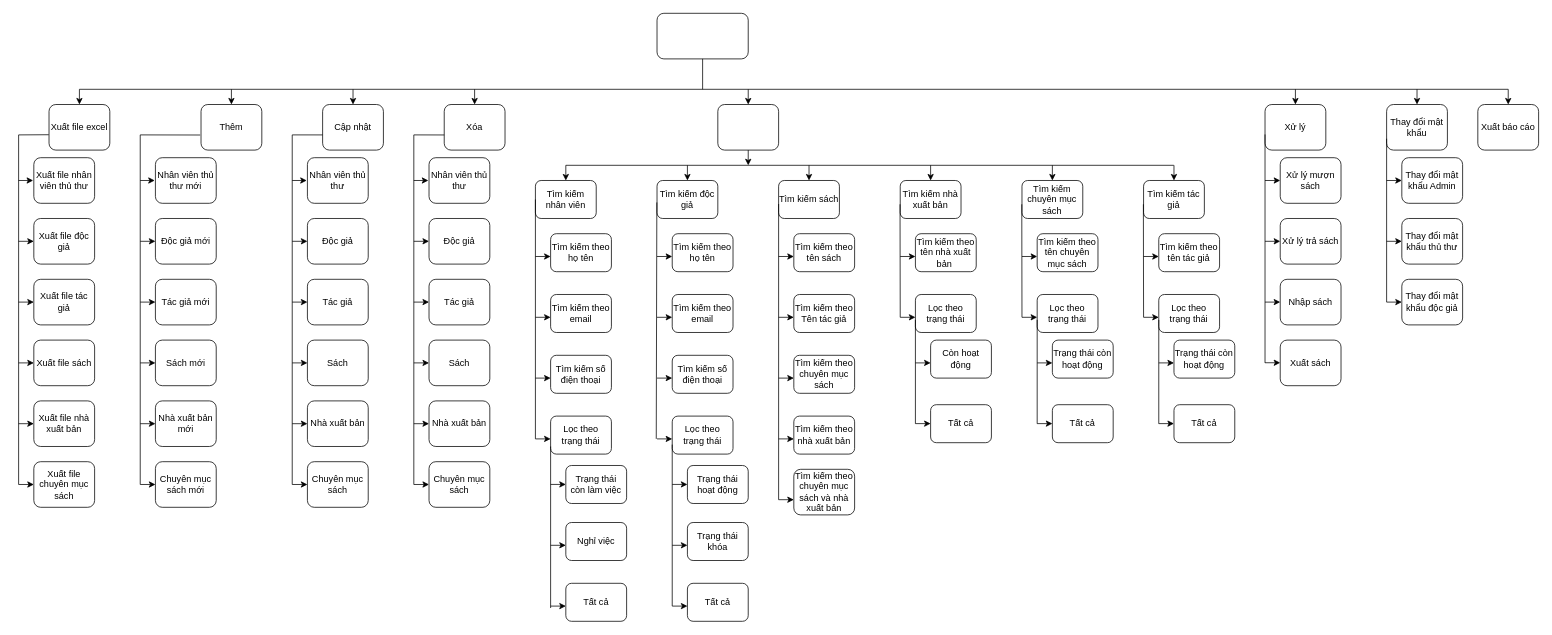
Image size: 1552x635. Some labels were removed from this diagram. The centre of each missing label's shape, as x and y in pixels:
Quản Lý Thư Viện: (x=702, y=36)
Tìm kiếm: (x=748, y=127)
